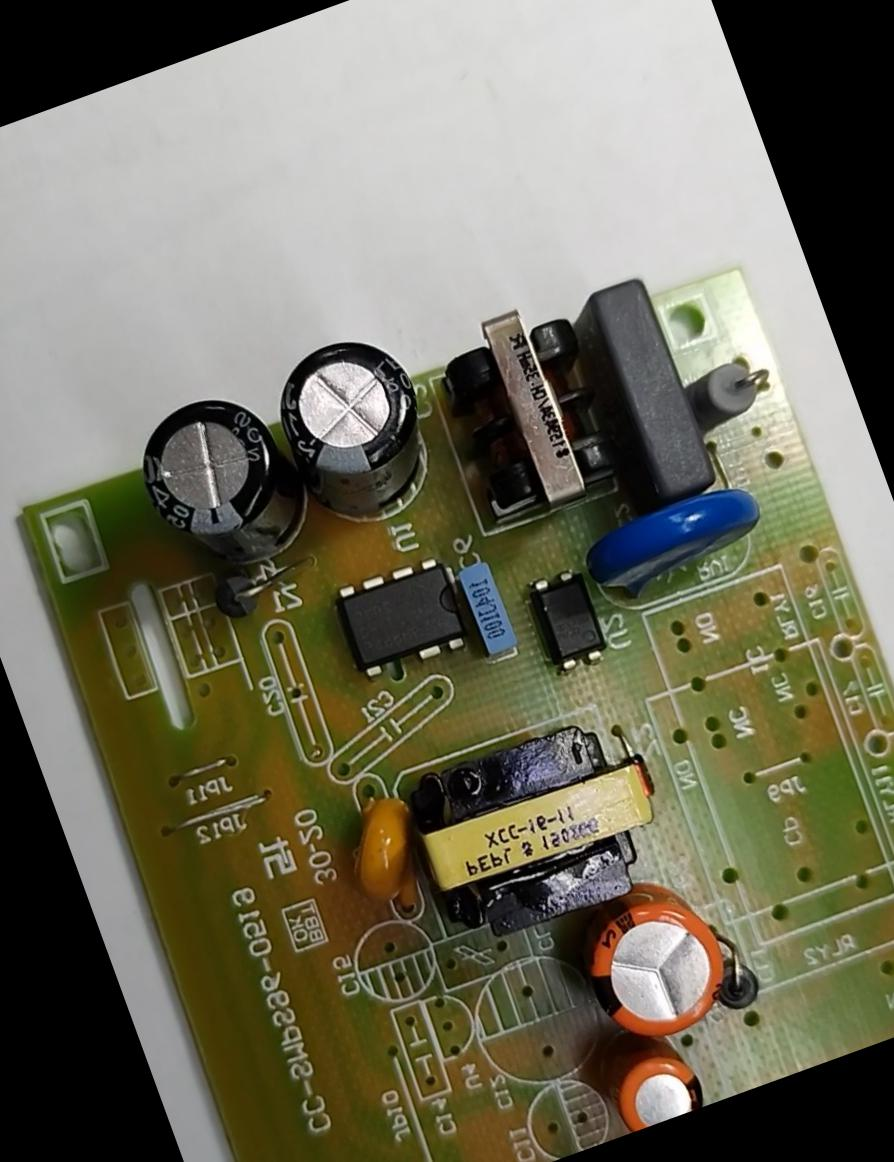Cap1: (550, 857, 754, 1068)
Cap2: (579, 1010, 716, 1138)
Cap3: (244, 312, 468, 560)
Cap4: (98, 361, 339, 609)
MOSFET: (319, 540, 491, 687)
Mov: (561, 463, 783, 628)
Resistor: (662, 343, 788, 444)
Transformer: (380, 690, 696, 970), (414, 282, 626, 533)
